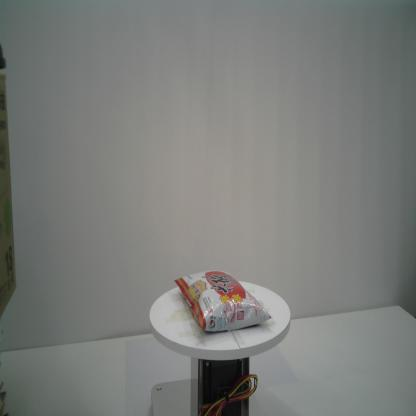Seasoner: (172, 268, 274, 334)
